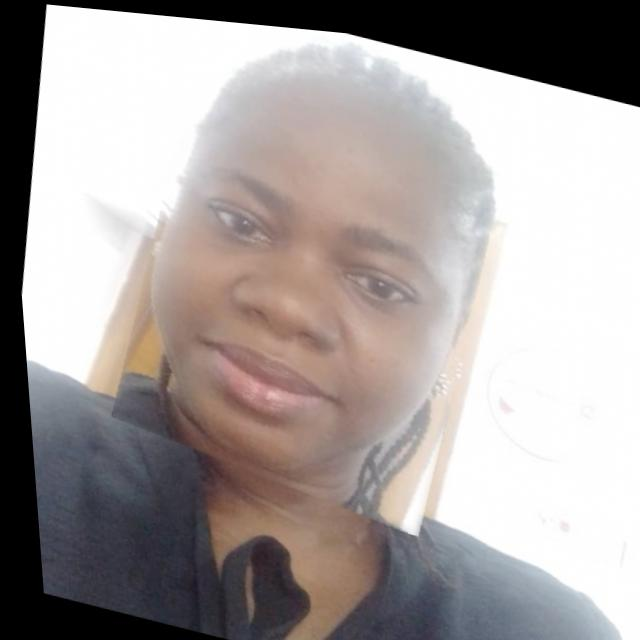happy: (91, 7, 534, 536)
